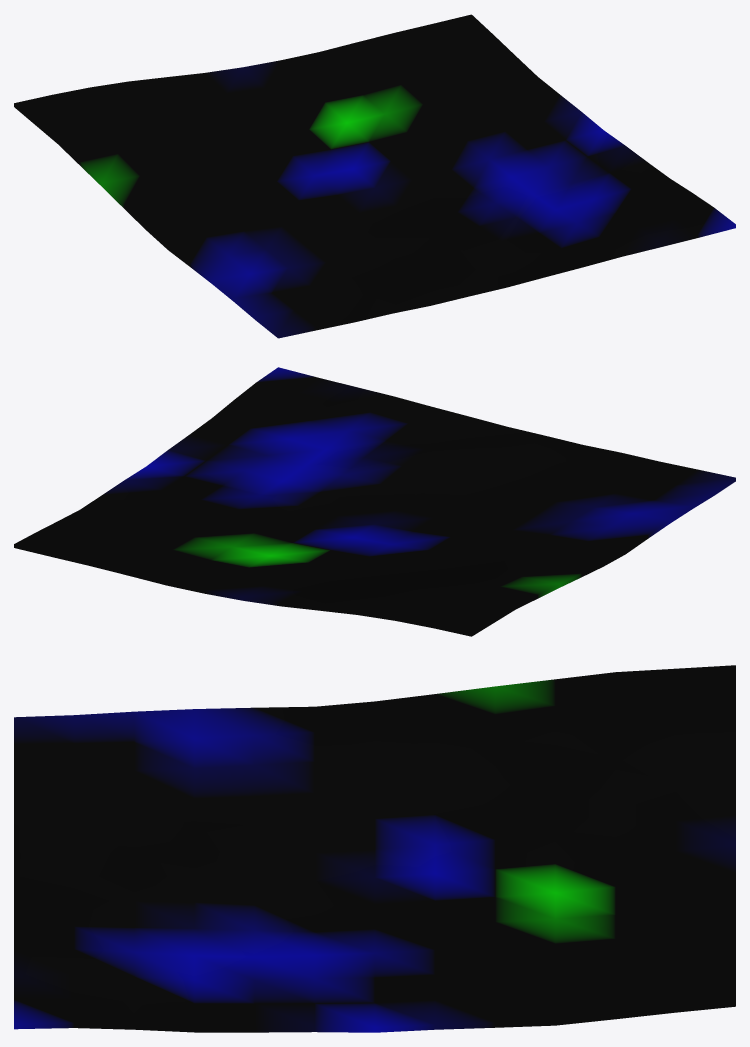
File: coast_14_2.glb
The picture shows the model from 3 angles, top to bottom: view 1: azimuth 30°, elevation 25°; view 2: azimuth 150°, elevation 25°; view 3: azimuth 270°, elevation 25°; orthographic projection. The views are drawn at different scales.
Parts seen in each view (by area): view 1: terrain; view 2: terrain; view 3: terrain.
Boxes of the visible parts, bbox=[...] form: terrain: bbox=[14, 14, 735, 338]; terrain: bbox=[14, 367, 735, 636]; terrain: bbox=[14, 665, 735, 1032].
Size of the model in its own units: 192 by 18.72 by 192.
